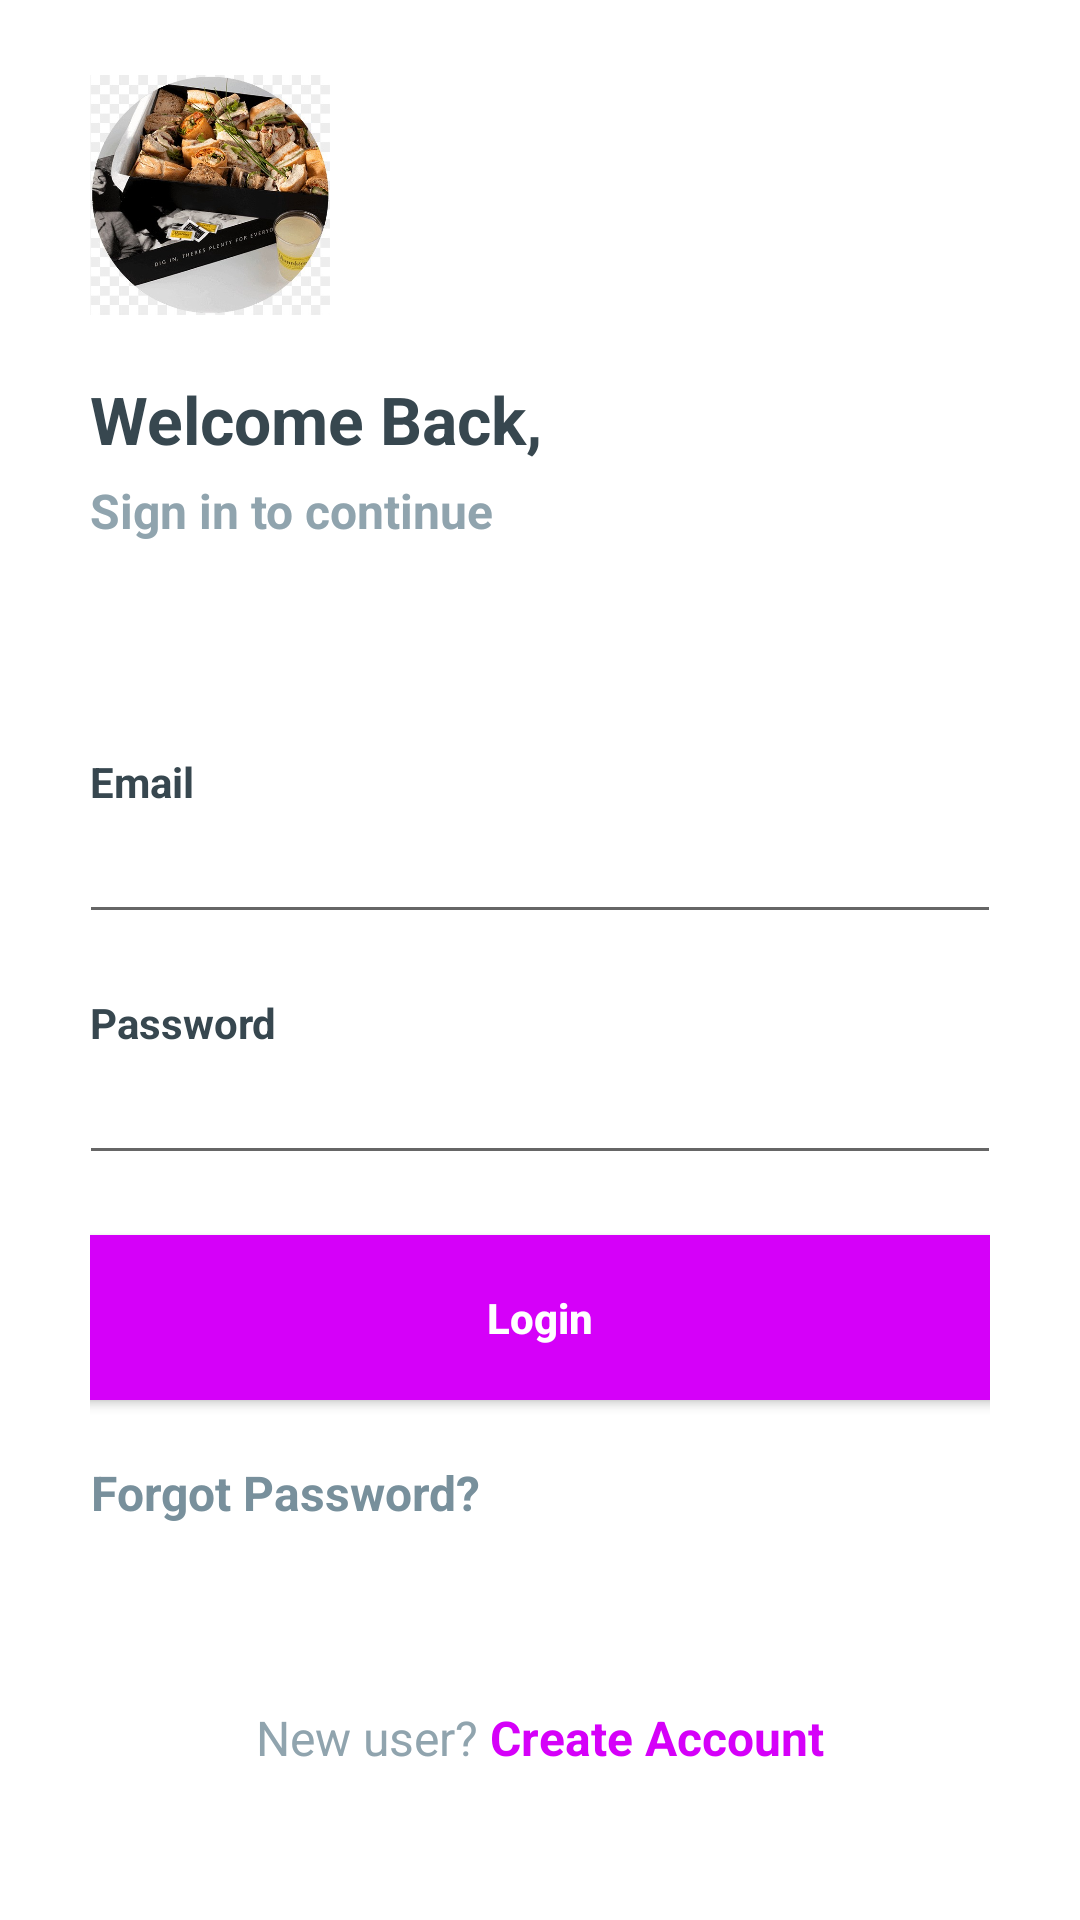

Icon bounding boxes for this 1080x1920 phone screenshot, format (x1, y1, x2, y2):
munchies: (92, 77, 329, 313)
